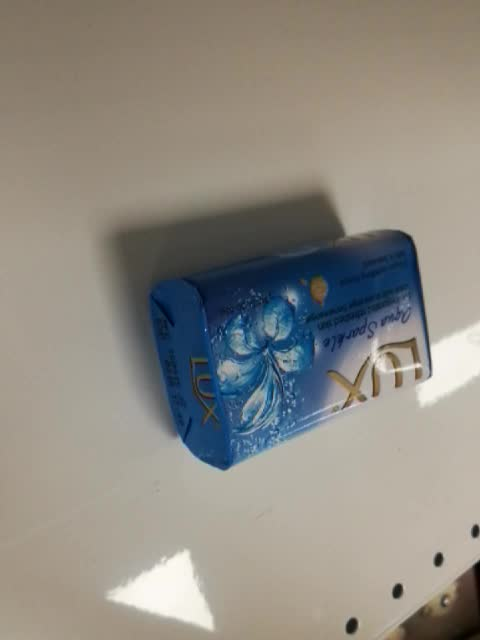soap: (150, 226, 435, 473)
